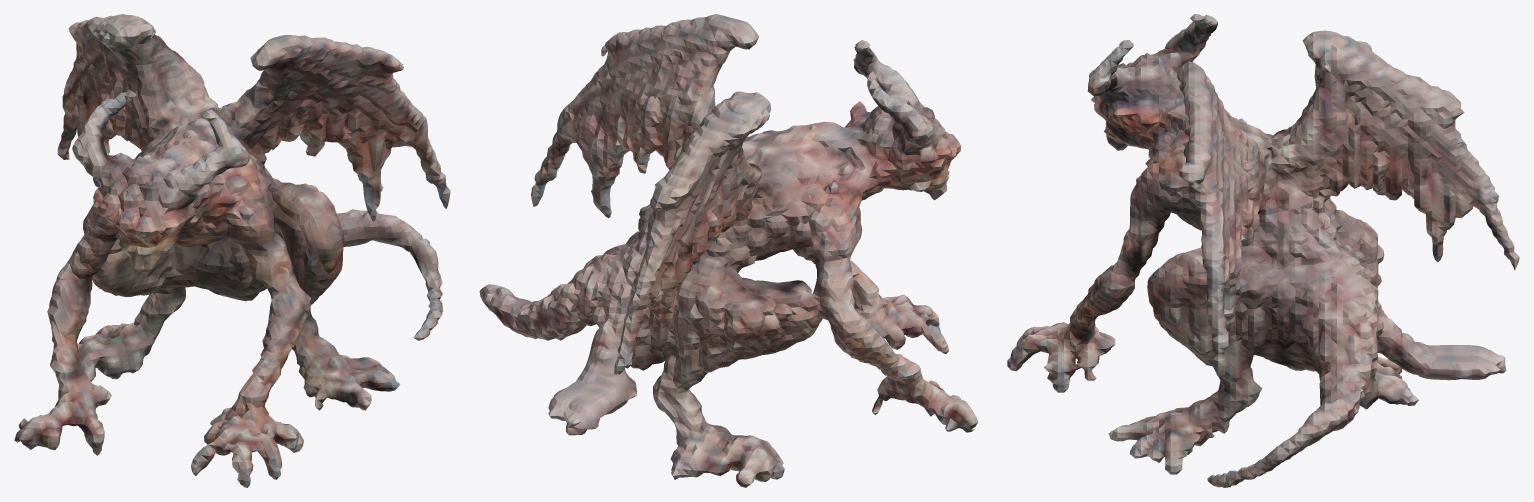
Rendered from imp.glb.
3 renders of one model, left to right at view 1: azimuth 30°, elevation 25°; view 2: azimuth 150°, elevation 25°; view 3: azimuth 270°, elevation 25°, orthographic.
Parts seen in each view (by area): view 1: geometry_0; view 2: geometry_0; view 3: geometry_0.
Part boxes in pixels (box(x1,y1,x2,y2)): geometry_0: box(14, 14, 450, 487); geometry_0: box(479, 14, 978, 487); geometry_0: box(1007, 14, 1519, 487).
Size of the model in its own units: 1.03 by 0.8039 by 1.01.
